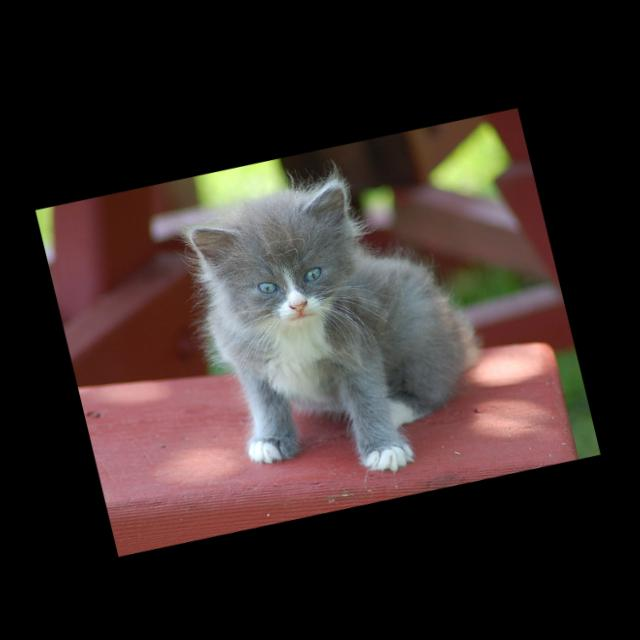animals: (186, 177, 363, 330)
